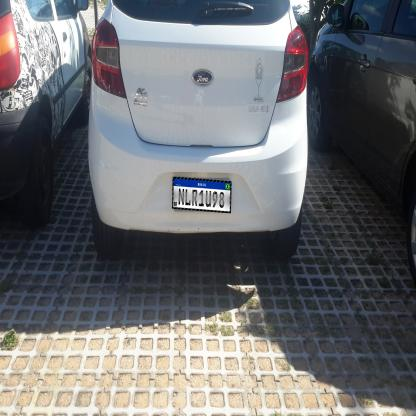PlacaM: (172, 177, 232, 213)
